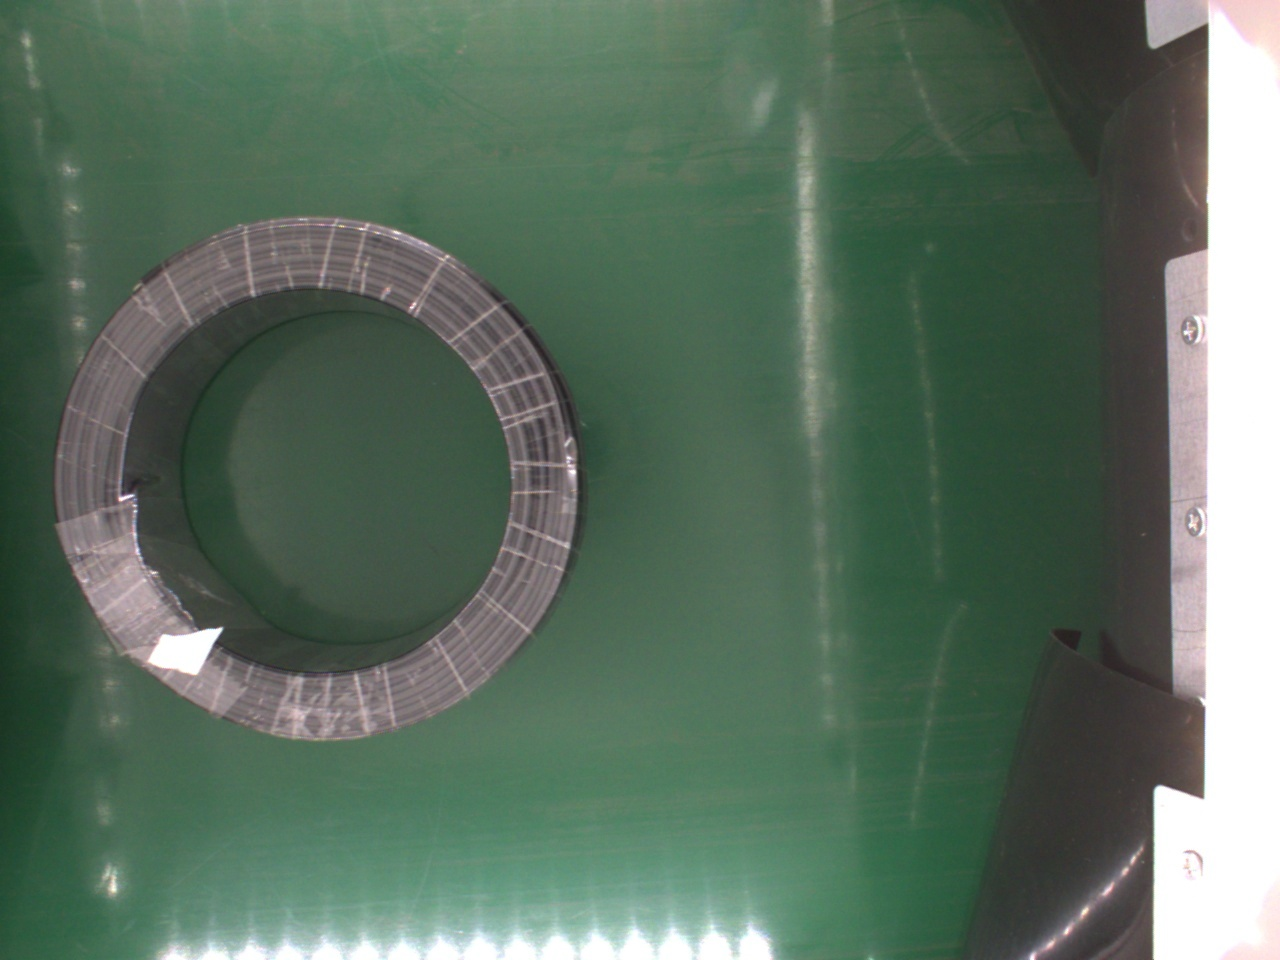black: (48, 211, 579, 740)
